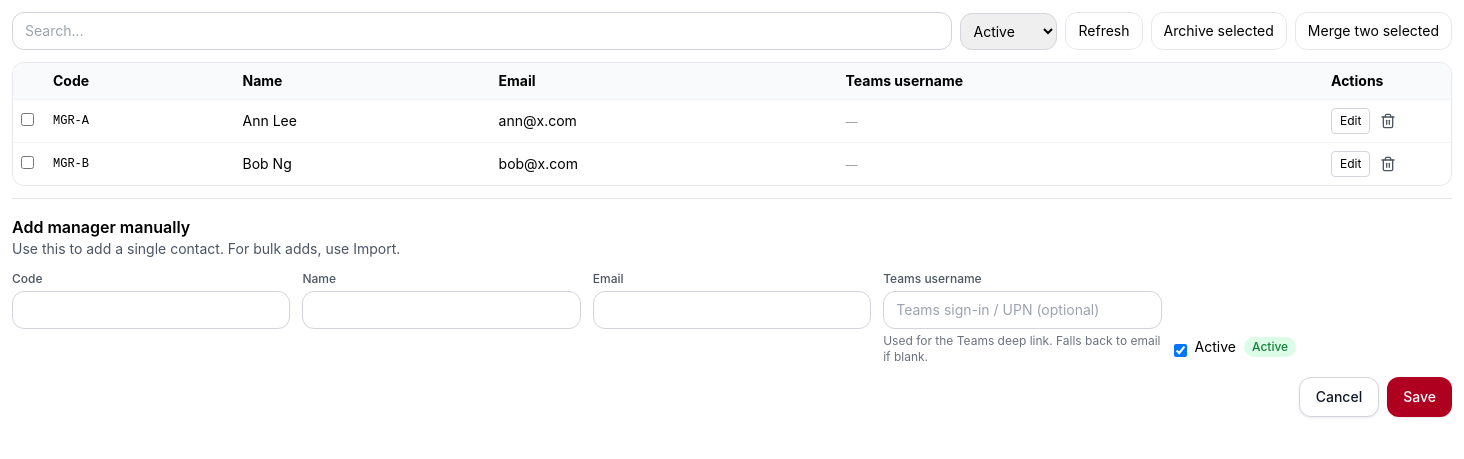
Scenario: DirectoryTable inline edit › toggling Active off under the active filter drops the row from the list
Check: the text "MGR-A" is shown, box [45, 100, 234, 142]
Click the button with aria-label "edit manager ann lee". click: (1351, 121)
box: [1331, 108, 1370, 134]
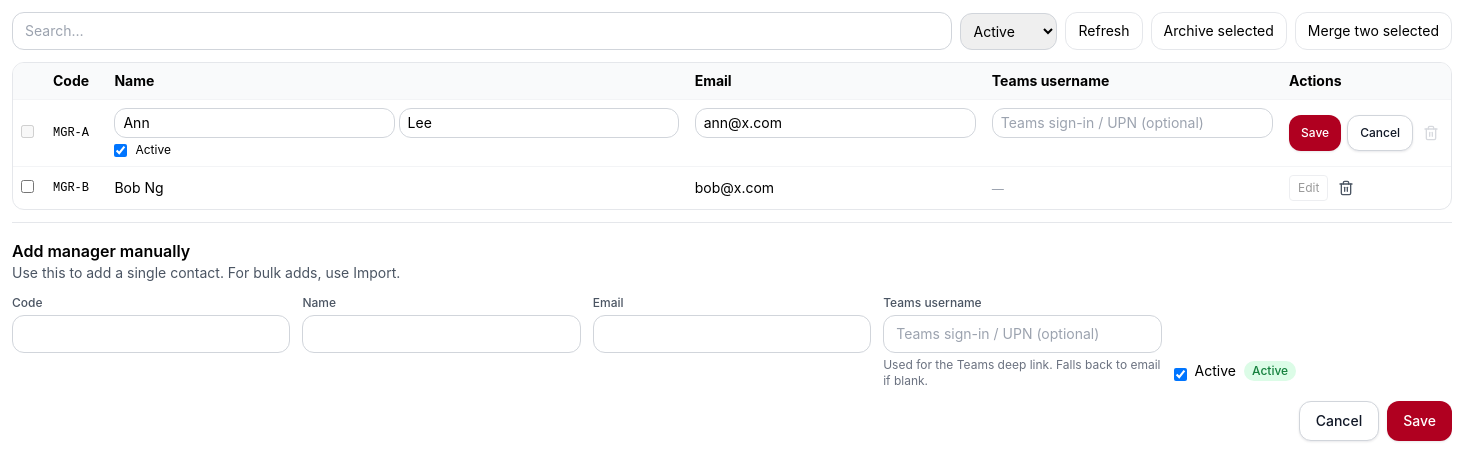
Click the checkbox labelled "Active". click: (121, 150)
box: [114, 144, 128, 156]
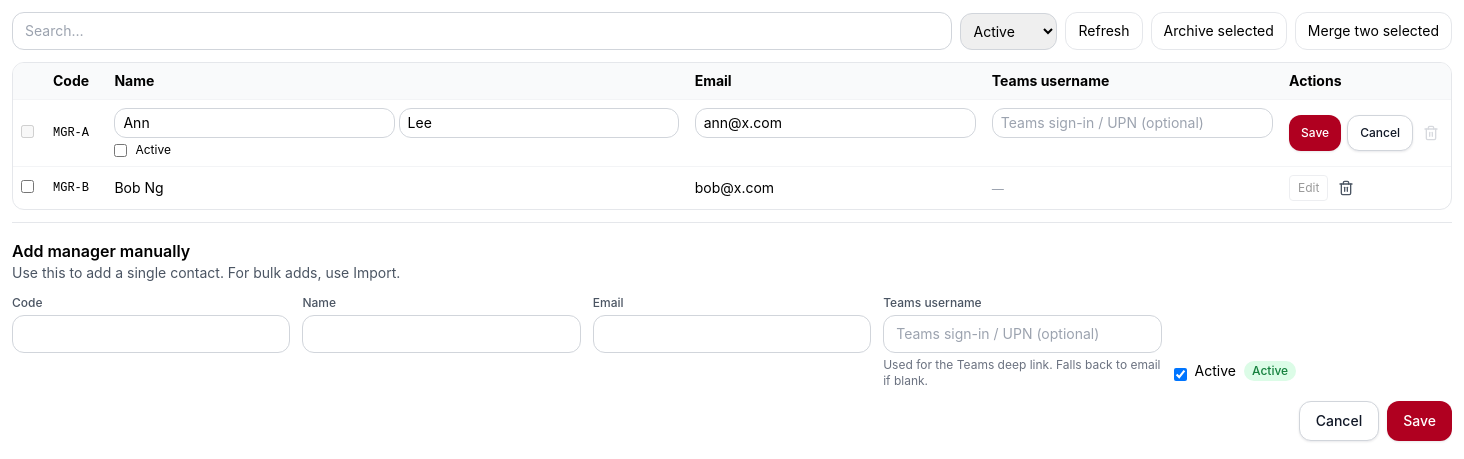
Click the button "Save" in the row of "MGR-A". click: (1315, 133)
box: [1289, 115, 1341, 151]
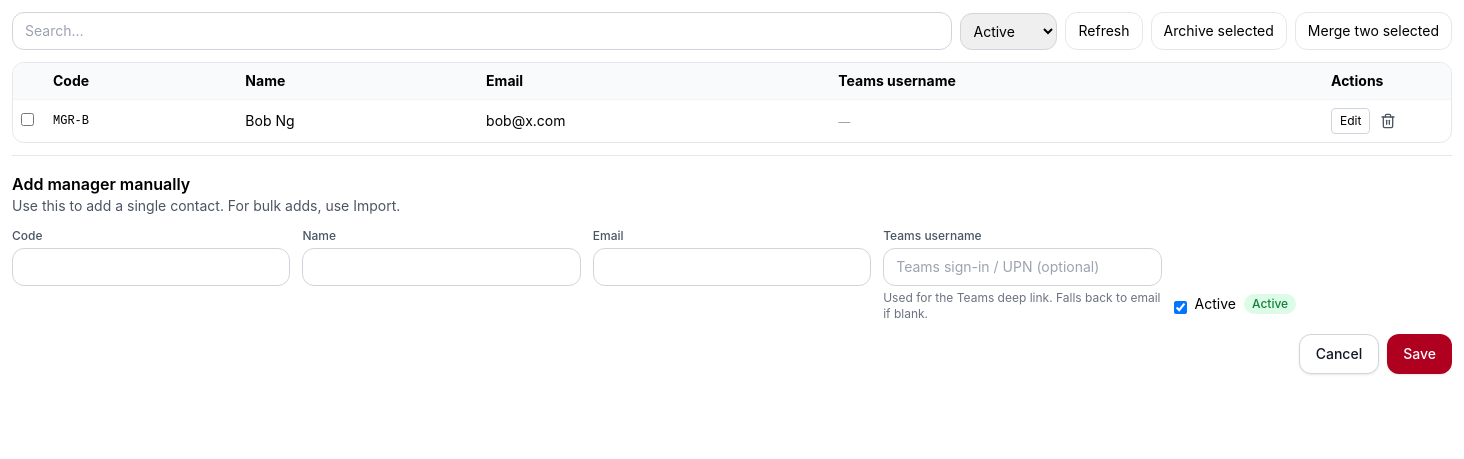
Check: the text "MGR-A" is gone
